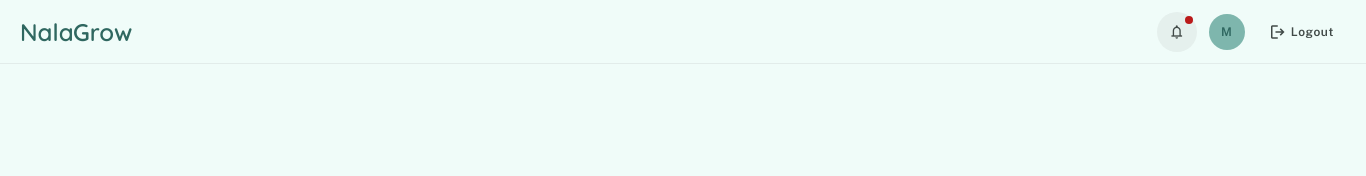
Test: AppHeader › provides working home, profile, and notification controls without a no-op search field
This screenshot has width=1366, height=176.
Click the button named "Notifications" at point(1177, 32), box [1157, 12, 1197, 52]
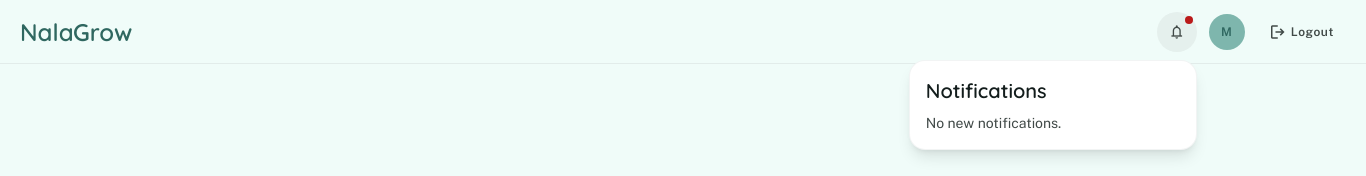
Expected: the text "No new notifications." is shown, [926, 114, 1061, 130]
